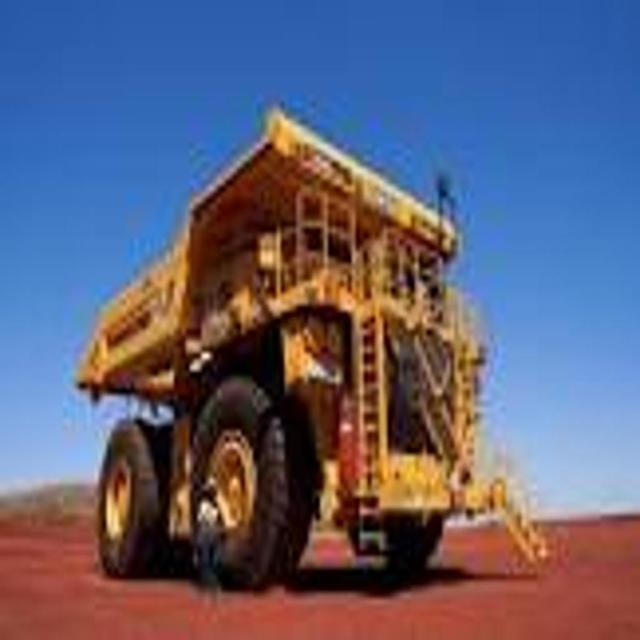dump_truck: (73, 93, 542, 581)
